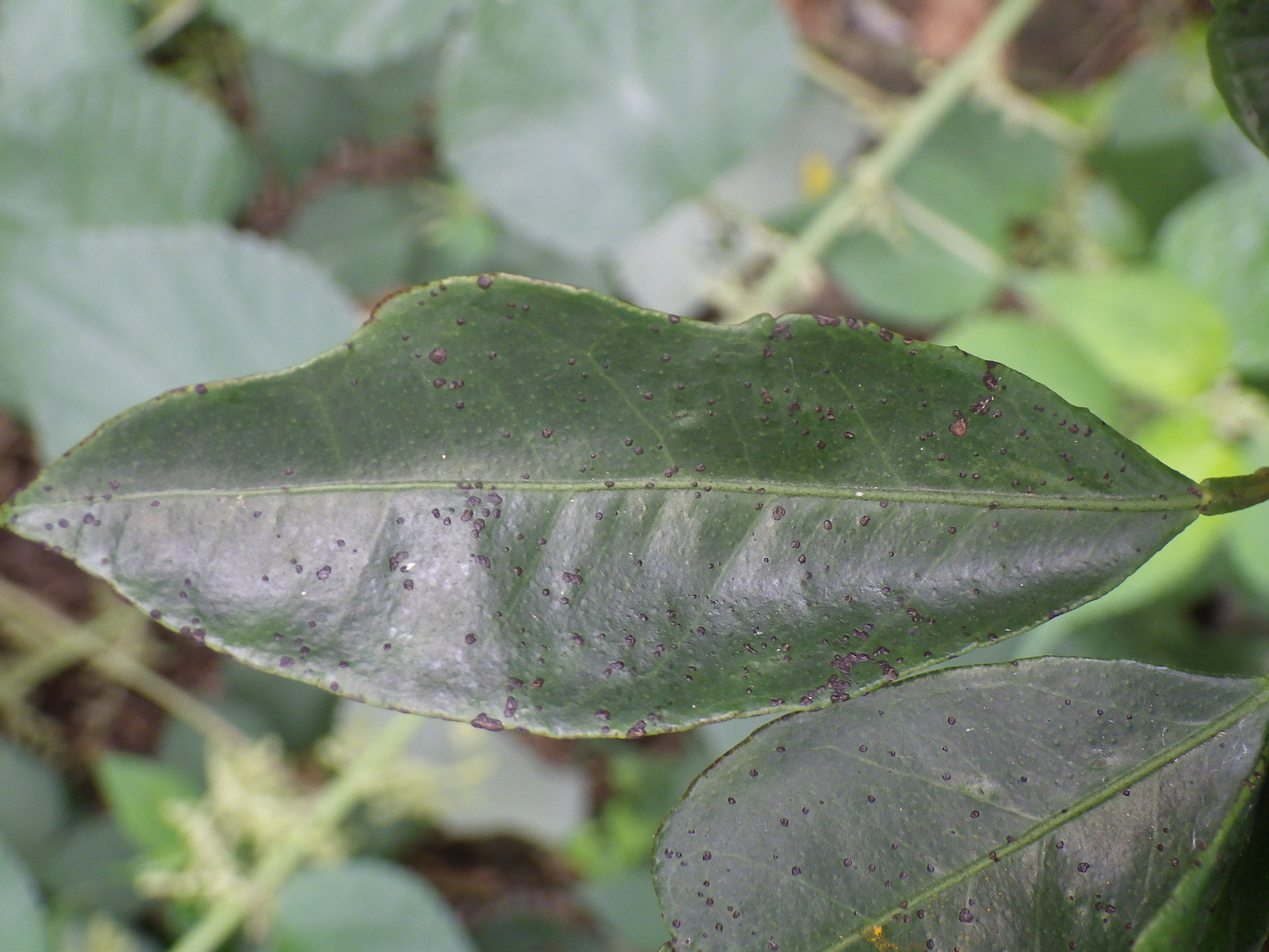Black_Spot: (0, 275, 1205, 737)
